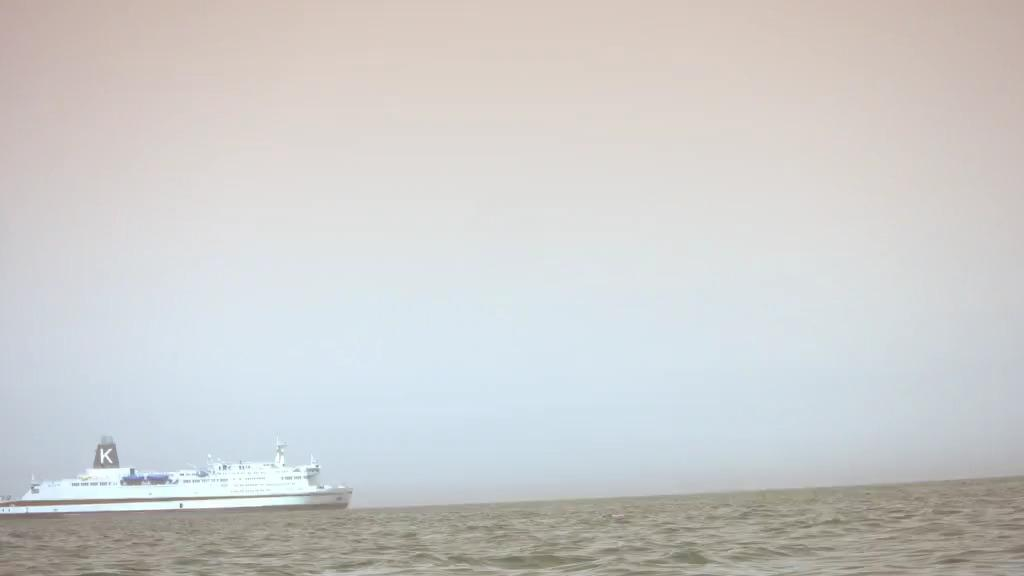PassengerShip: (0, 428, 362, 524)
